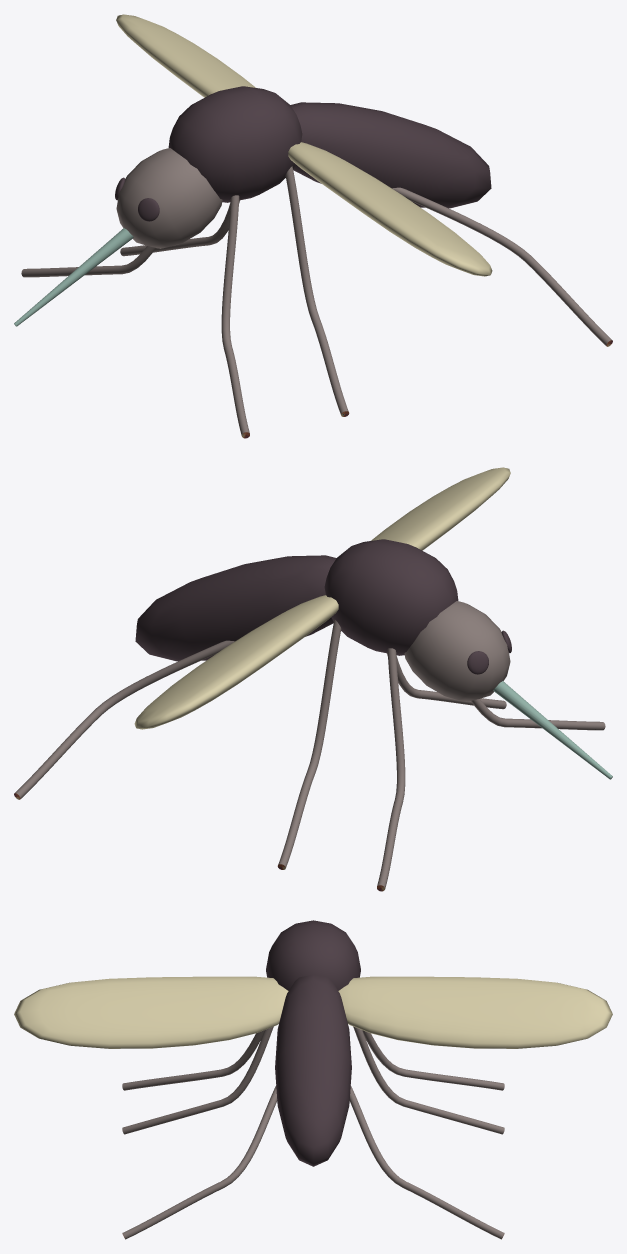
The model's file is Mosquito.fbx.
The picture shows the model from 3 angles, top to bottom: view 1: azimuth 30°, elevation 25°; view 2: azimuth 150°, elevation 25°; view 3: azimuth 270°, elevation 25°; orthographic projection. The views are drawn at different scales.
Parts seen in each view (by area): view 1: Mosquito, Wing2, Wing1; view 2: Mosquito, Wing1, Wing2; view 3: Mosquito, Wing2, Wing1.
Boxes of the visible parts, x1,y1,x2,y2 form: Mosquito: [14, 86, 612, 438]; Wing2: [288, 142, 492, 276]; Wing1: [116, 14, 255, 97]; Mosquito: [14, 539, 612, 891]; Wing1: [134, 595, 338, 729]; Wing2: [371, 467, 510, 550]; Mosquito: [122, 920, 504, 1239]; Wing2: [14, 976, 288, 1048]; Wing1: [338, 976, 612, 1048].
Size of the model in its own units: 1037 by 491 by 1287.
